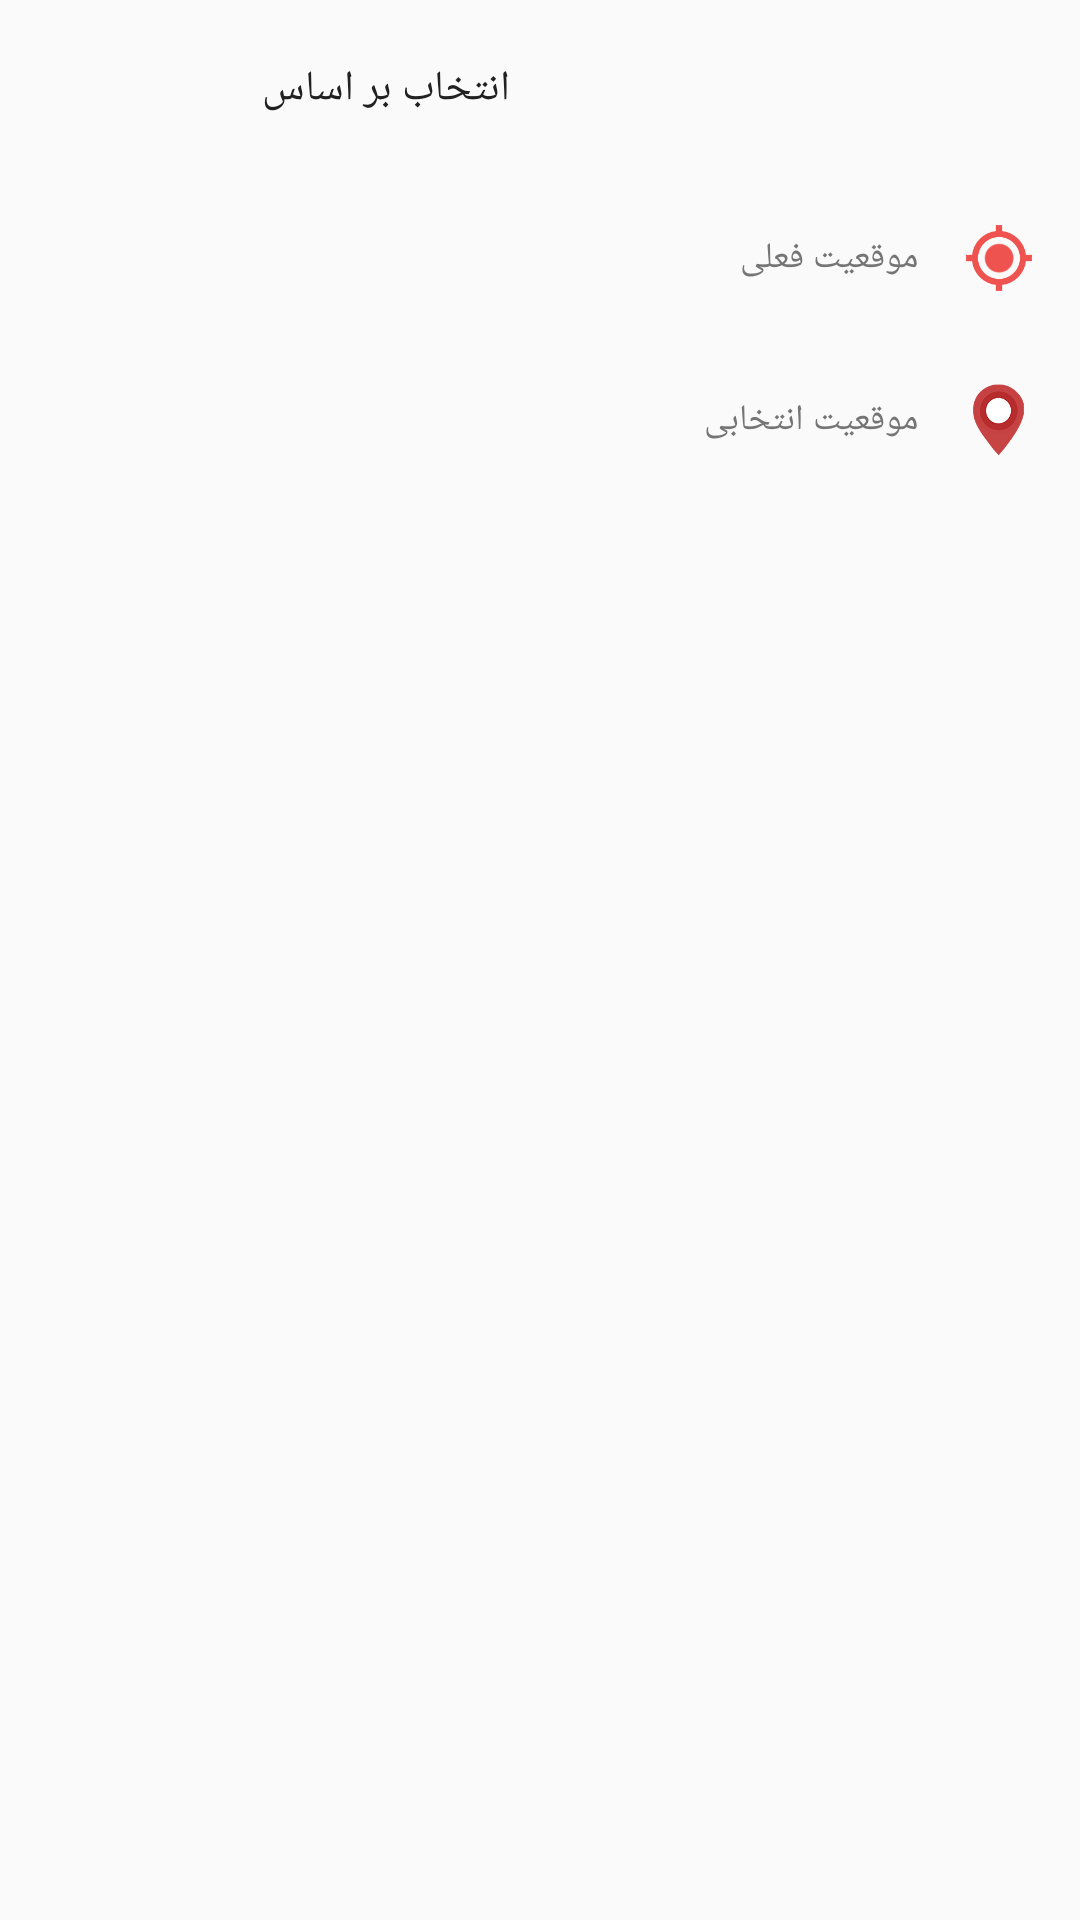

Where icons sit on this 1080*1920 app screen, as {"x1": x1, "y1": y1, "x2": x2, "y2": y2}:
pin: {"x1": 973, "y1": 384, "x2": 1024, "y2": 455}
